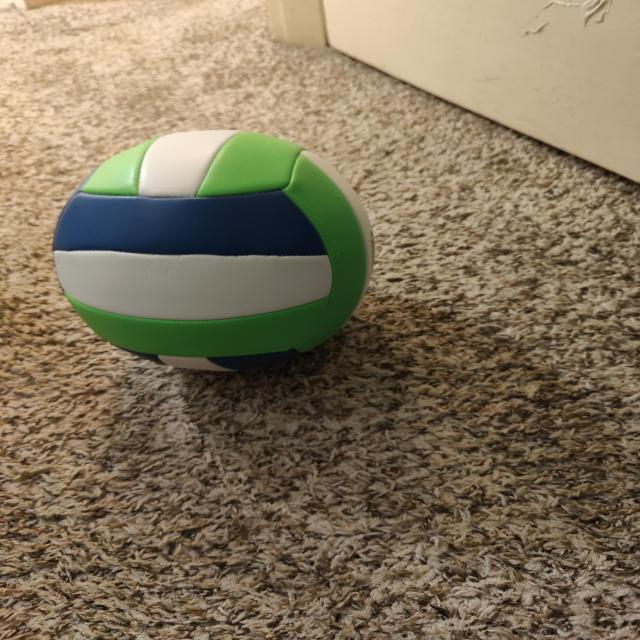ball: (58, 133, 372, 360)
